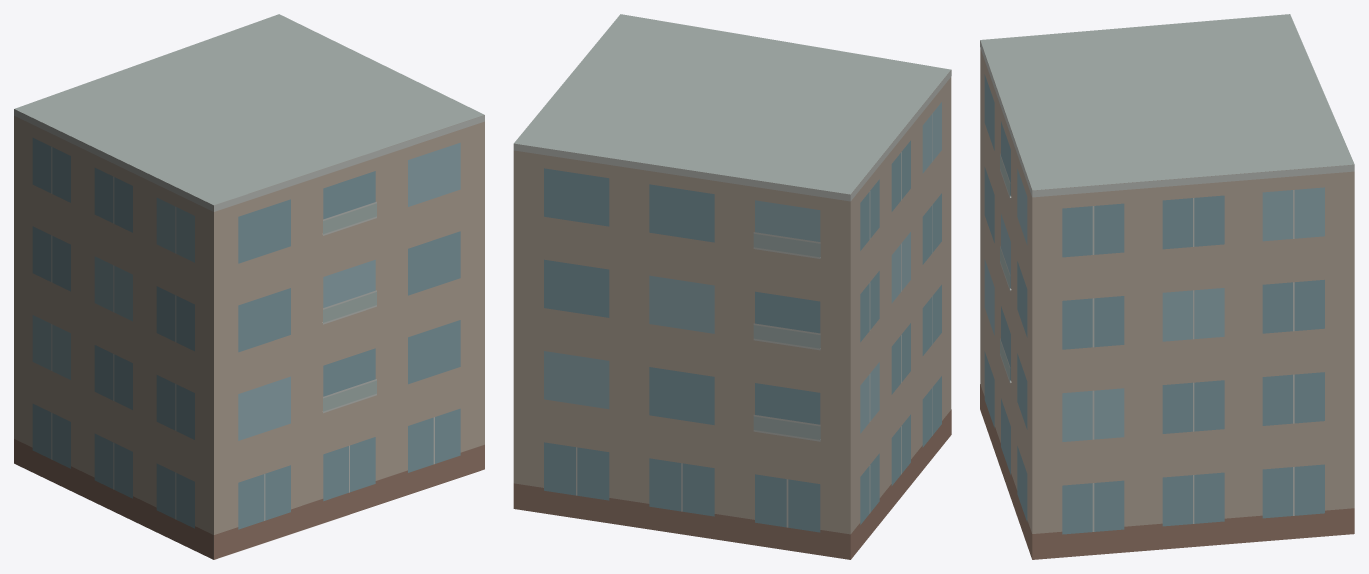
Rendered from survey-upis-32705576.glb.
3 views of the same model, side by side, from view 1: azimuth 30°, elevation 25°; view 2: azimuth 150°, elevation 25°; view 3: azimuth 270°, elevation 25° (orthographic). The views are drawn at different scales.
Parts seen in each view (by area): view 1: survey-upis-32705576.tmp; view 2: survey-upis-32705576.tmp; view 3: survey-upis-32705576.tmp.
Part boxes in pixels (box(x1,y1,x2,y2)): survey-upis-32705576.tmp: box(14, 14, 484, 559); survey-upis-32705576.tmp: box(513, 14, 951, 559); survey-upis-32705576.tmp: box(980, 14, 1354, 559).
Bounding box in the file's own units: 13.22 × 12.9 × 11.86.
